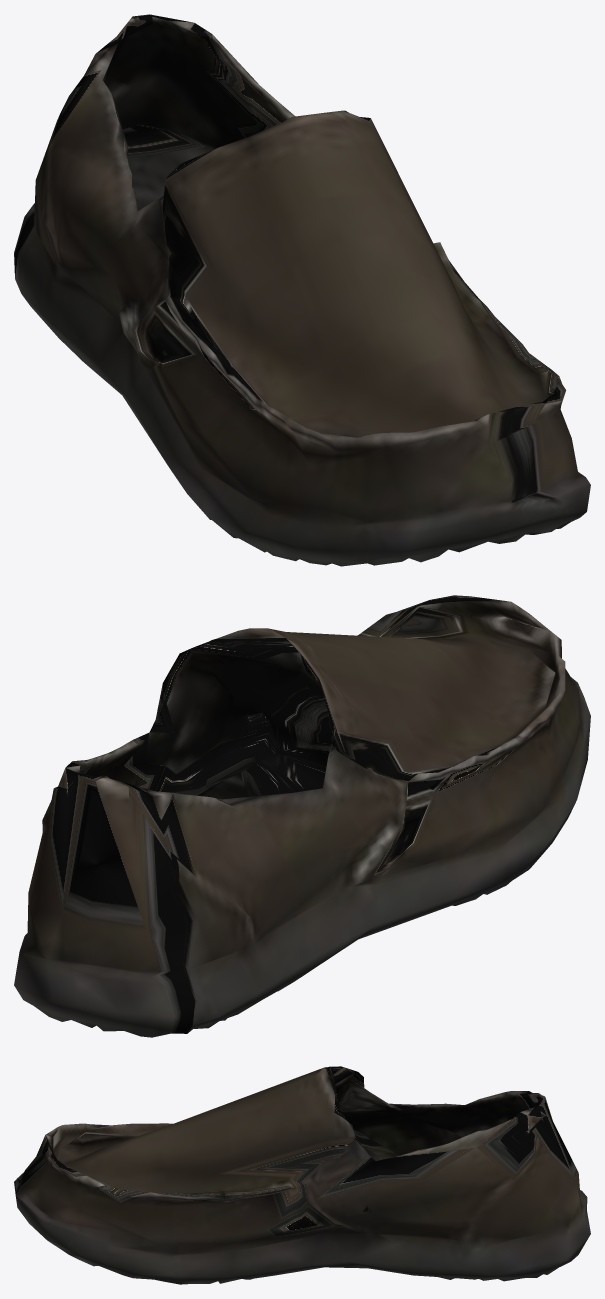
The model's file is gso_santa_cruz_mens_vnbitddt5xh.glb.
The picture shows the model from 3 angles, top to bottom: view 1: azimuth 30°, elevation 25°; view 2: azimuth 150°, elevation 25°; view 3: azimuth 270°, elevation 25°; orthographic projection. The views are drawn at different scales.
Visible parts, largest first — view 1: z-up-to-y-up; view 2: z-up-to-y-up; view 3: z-up-to-y-up.
Part boxes in pixels (left/top/right/bottom): z-up-to-y-up: left=14, top=14, right=590, bottom=566; z-up-to-y-up: left=14, top=595, right=590, bottom=1037; z-up-to-y-up: left=14, top=1066, right=590, bottom=1284.
Bounding box in the file's own units: 0.1076 × 0.1055 × 0.2977.
Materials: 1 (1 with a texture image).
